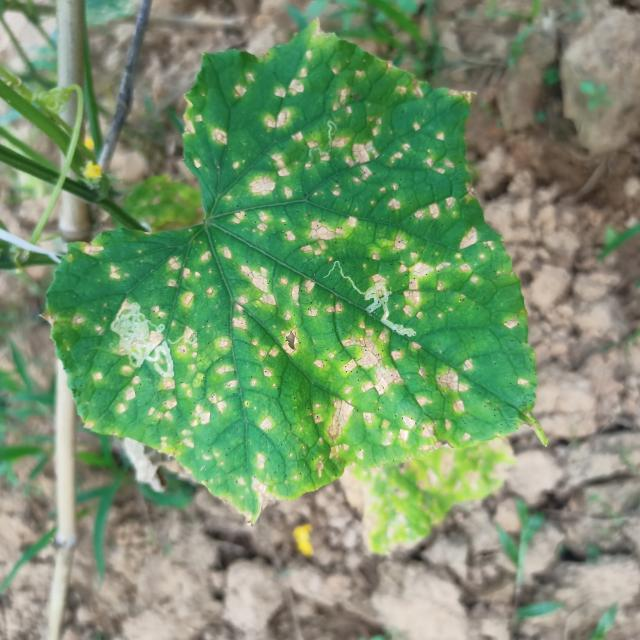disease_cucumber: (73, 70, 496, 480)
